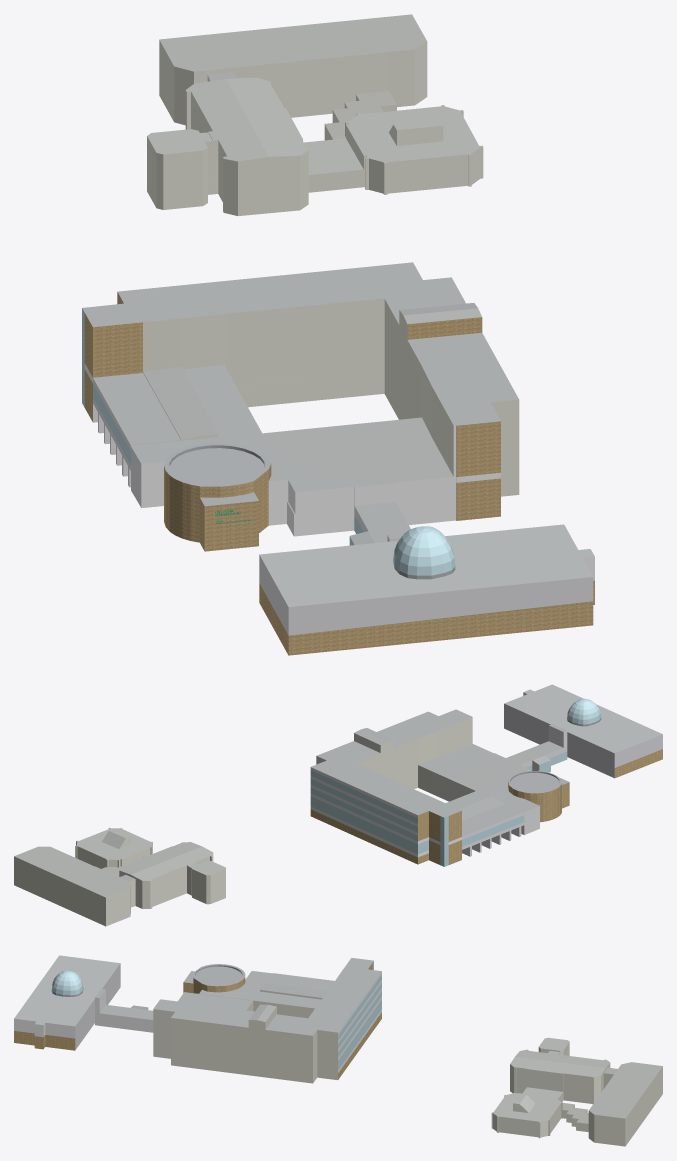
3 renders of one model, top to bottom at view 1: azimuth 30°, elevation 25°; view 2: azimuth 150°, elevation 25°; view 3: azimuth 270°, elevation 25°, orthographic. The views are drawn at different scales.
Visible parts, largest first — view 1: test7.11; view 2: test7.11; view 3: test7.11.
Boxes of the visible parts, x1,y1,x2,y2 form: test7.11: [82, 14, 594, 655]; test7.11: [14, 684, 662, 926]; test7.11: [14, 955, 662, 1146].
Bounding box in the file's own units: 154 × 25.04 × 252.
27 materials, 4 textured.
